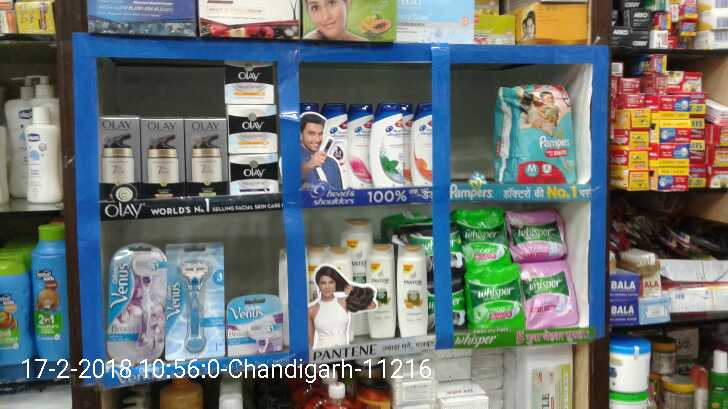venus: (164, 242, 224, 360), (107, 243, 164, 360), (228, 293, 288, 355)
